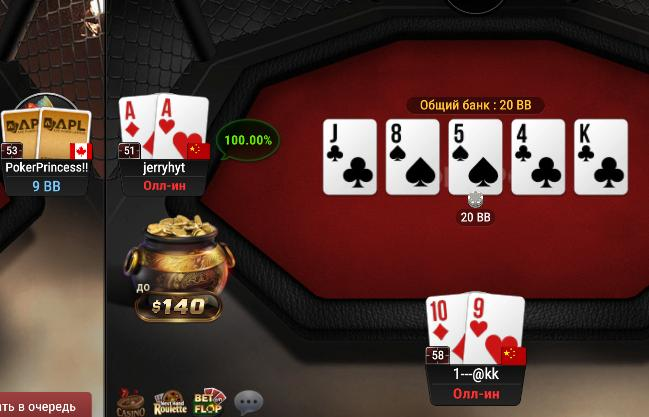10d: (423, 293, 466, 365)
4c: (513, 121, 564, 194)
5s: (449, 120, 501, 194)
8s: (387, 120, 438, 195)
9h: (466, 292, 526, 365)
Ad: (118, 96, 155, 161)
Ah: (155, 91, 209, 158)
Jc: (325, 120, 377, 193)
Kc: (575, 120, 626, 194)
